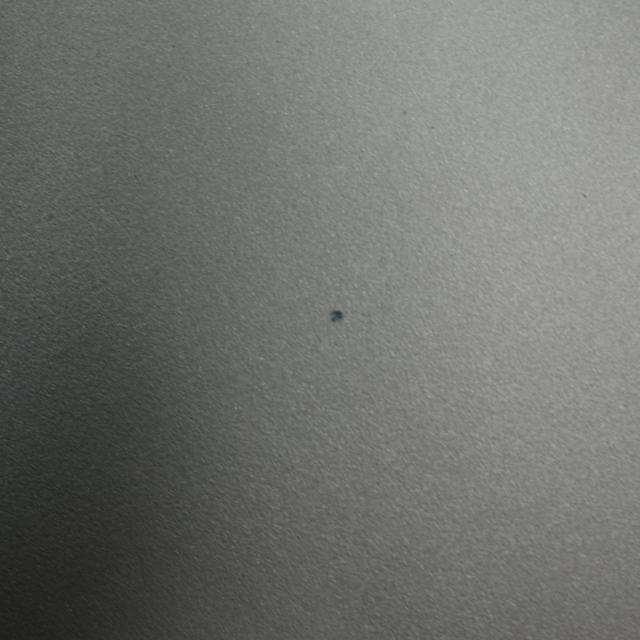dirt: (328, 303, 346, 324)
